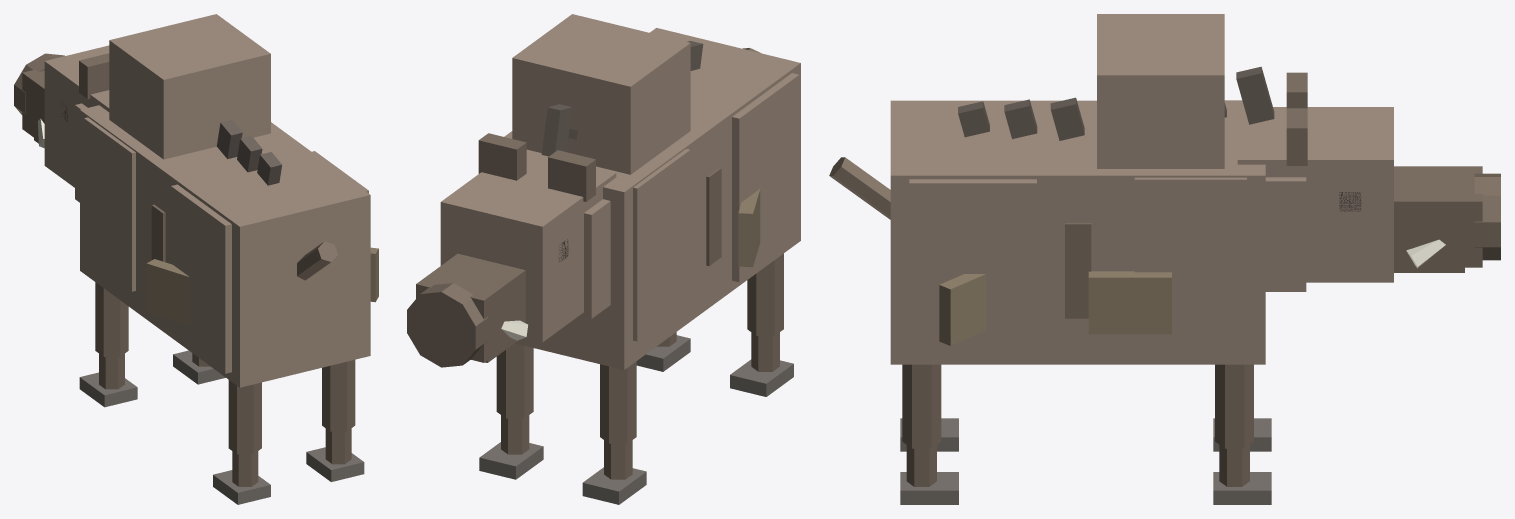
The model's file is boar.glb.
3 renders of one model, left to right at view 1: azimuth 30°, elevation 25°; view 2: azimuth 150°, elevation 25°; view 3: azimuth 270°, elevation 25°, orthographic. The views are drawn at different scales.
Visible parts, largest first — view 1: boar; view 2: boar; view 3: boar.
Boxes of the visible parts, bbox=[...] form: boar: bbox=[14, 14, 378, 504]; boar: bbox=[407, 14, 800, 504]; boar: bbox=[829, 14, 1500, 504].
Size of the model in its own units: 0.4928 by 0.898 by 1.29.
